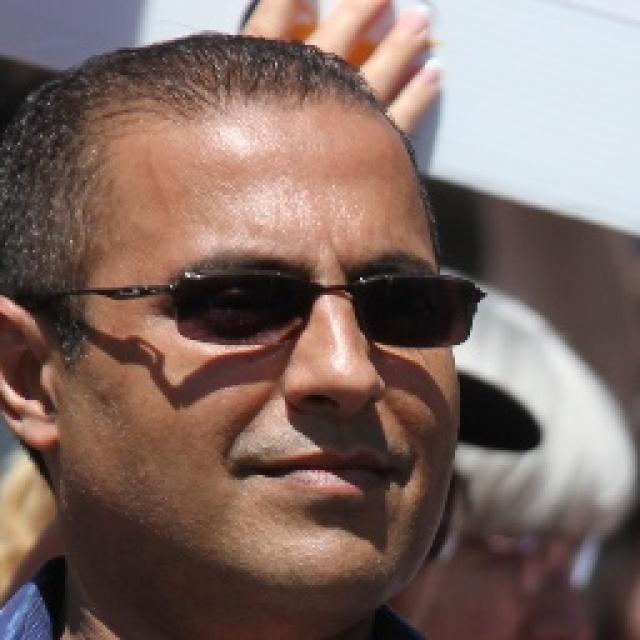earlobe: (0, 292, 61, 449)
